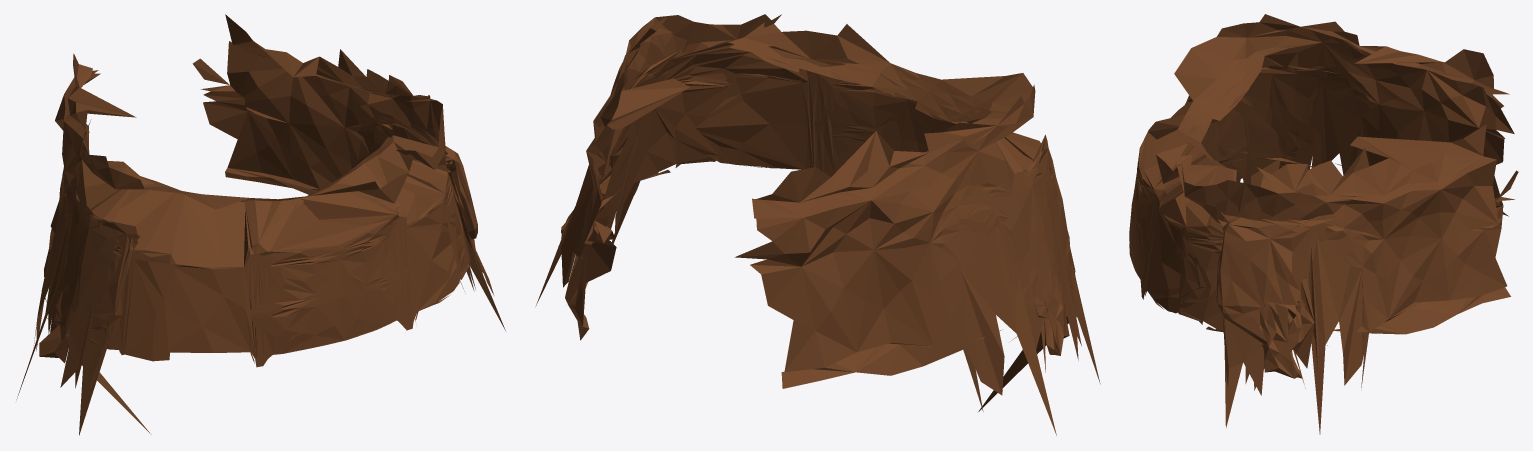
Rendered from kleidung.guertel.v003.glb.
The picture shows the model from 3 angles, left to right: view 1: azimuth 30°, elevation 25°; view 2: azimuth 150°, elevation 25°; view 3: azimuth 270°, elevation 25°; orthographic projection. The views are drawn at different scales.
Parts seen in each view (by area): view 1: kleidung.guertel.v003.001; view 2: kleidung.guertel.v003.001; view 3: kleidung.guertel.v003.001.
Boxes of the visible parts, x1=… form: kleidung.guertel.v003.001: x1=16, y1=14, x2=505, y2=435; kleidung.guertel.v003.001: x1=535, y1=14, x2=1100, y2=435; kleidung.guertel.v003.001: x1=1129, y1=14, x2=1518, y2=434.
Bounding box in the file's own units: 0.4025 × 0.2453 × 0.318.
